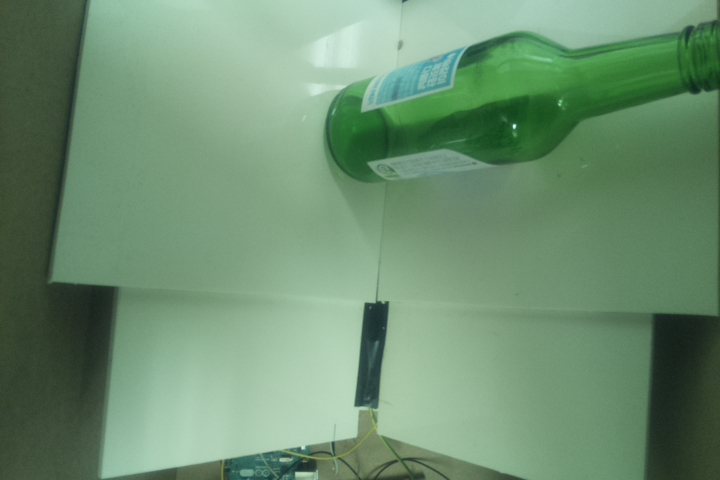soju: (321, 12, 720, 189)
